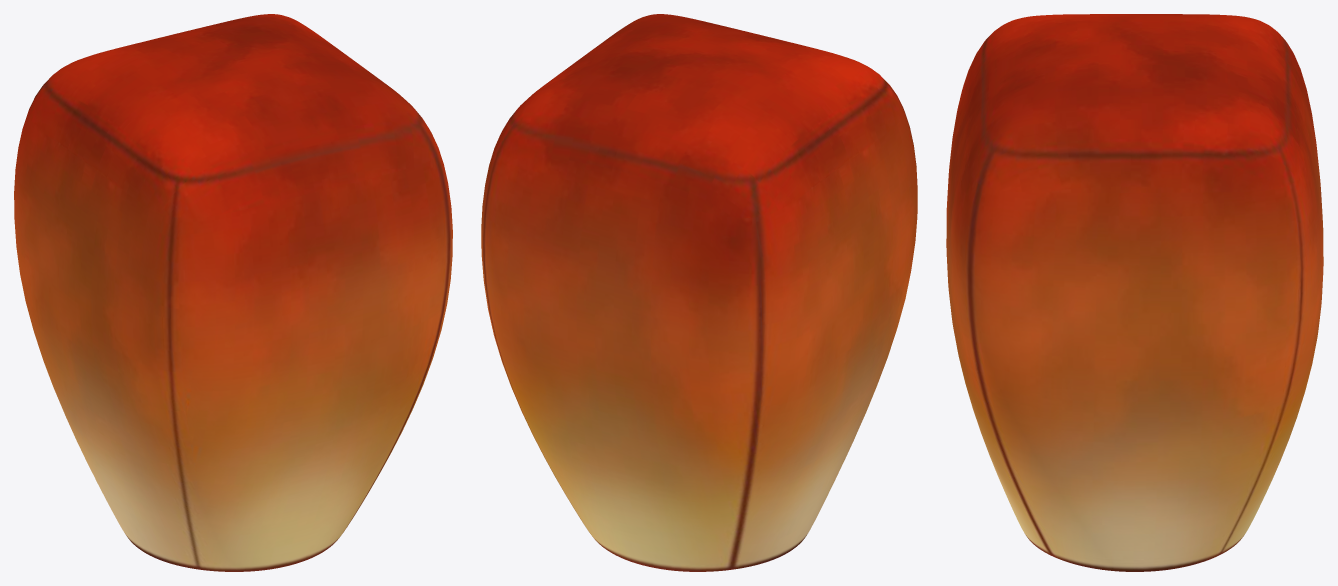
File: chineseLanternJpgcompressed.glb
The picture shows the model from 3 angles, left to right: view 1: azimuth 30°, elevation 25°; view 2: azimuth 150°, elevation 25°; view 3: azimuth 270°, elevation 25°; orthographic projection. The views are drawn at different scales.
Parts seen in each view (by area): view 1: 2__0; view 2: 2__0; view 3: 2__0.
Boxes of the visible parts, x1,y1,x2,y2 form: 2__0: (14, 14, 452, 571); 2__0: (481, 14, 917, 571); 2__0: (946, 14, 1323, 571).
Bounding box in the file's own units: 2.58 × 3.63 × 2.58.
1 material, 1 textured.
